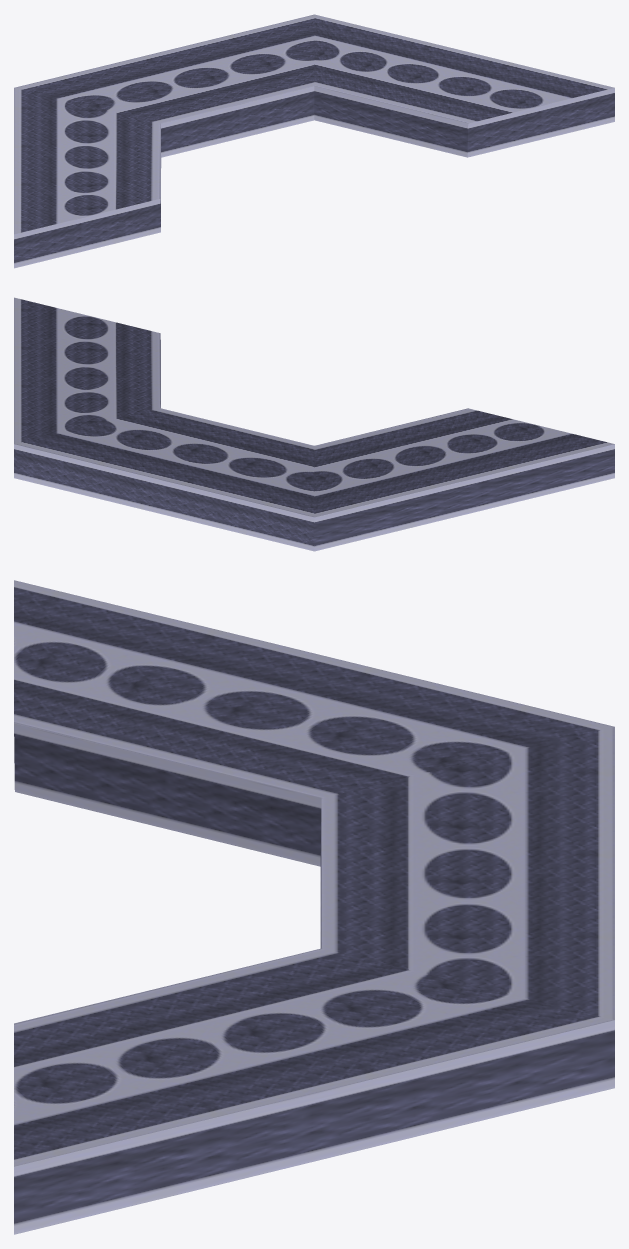
3 renders of one model, top to bottom at view 1: azimuth 30°, elevation 25°; view 2: azimuth 150°, elevation 25°; view 3: azimuth 270°, elevation 25°, orthographic. The views are drawn at different scales.
Visible parts, largest first — view 1: Cylinder01; view 2: Cylinder01; view 3: Cylinder01.
Part boxes in pixels (box(x1,y1,x2,y2)): Cylinder01: box(14, 14, 614, 268); Cylinder01: box(14, 297, 614, 551); Cylinder01: box(14, 580, 614, 1234).
Size of the model in its own units: 1304 by 70.58 by 564.
Materials: 2 (2 with a texture image).
